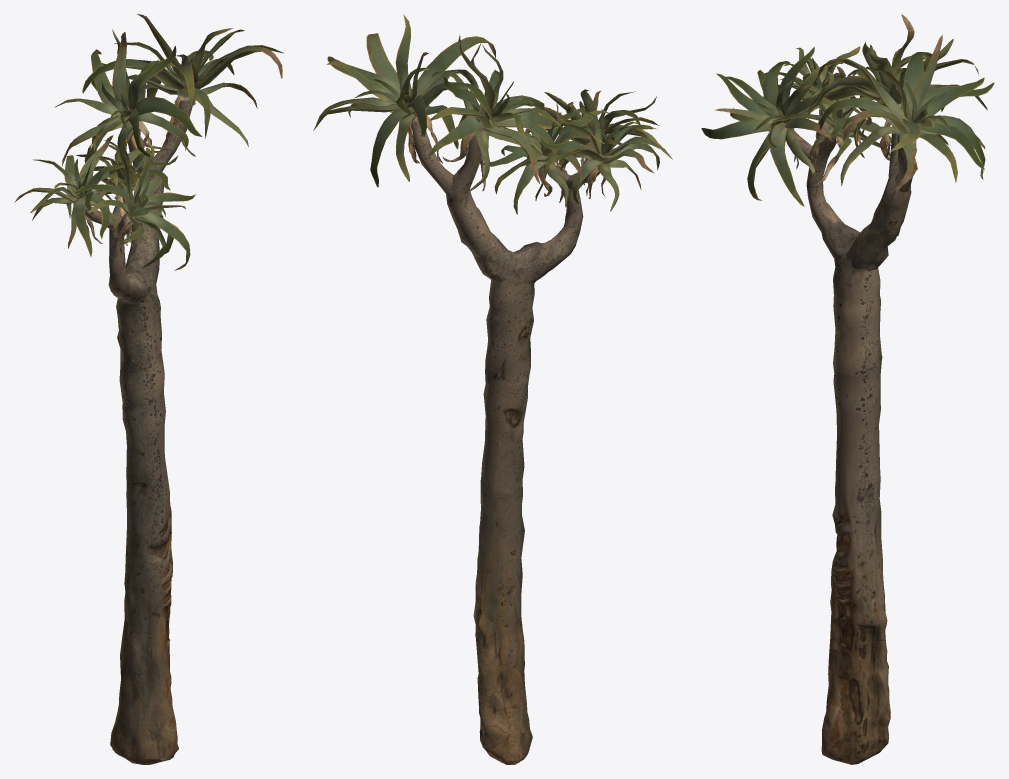
The model's file is quiver_tree_01.glb.
3 views of the same model, side by side, from view 1: azimuth 30°, elevation 25°; view 2: azimuth 150°, elevation 25°; view 3: azimuth 270°, elevation 25° (orthographic). The views are drawn at different scales.
Visible parts, largest first — view 1: quiver_tree_01; view 2: quiver_tree_01; view 3: quiver_tree_01.
Part boxes in pixels (x1,y1,x2,y2): quiver_tree_01: (14, 14, 283, 764); quiver_tree_01: (313, 14, 672, 764); quiver_tree_01: (701, 14, 994, 764).
Size of the model in its own units: 1.18 by 2.71 by 0.9707.
2 materials, 2 textured.
